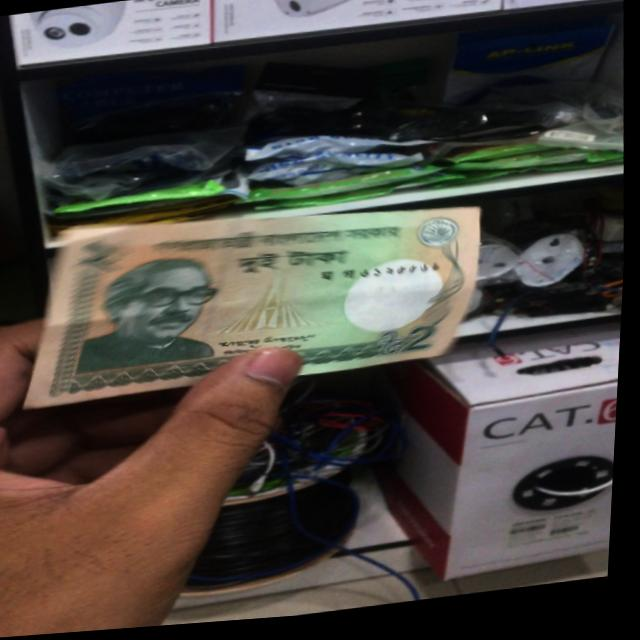Taka: (25, 182, 495, 420)
